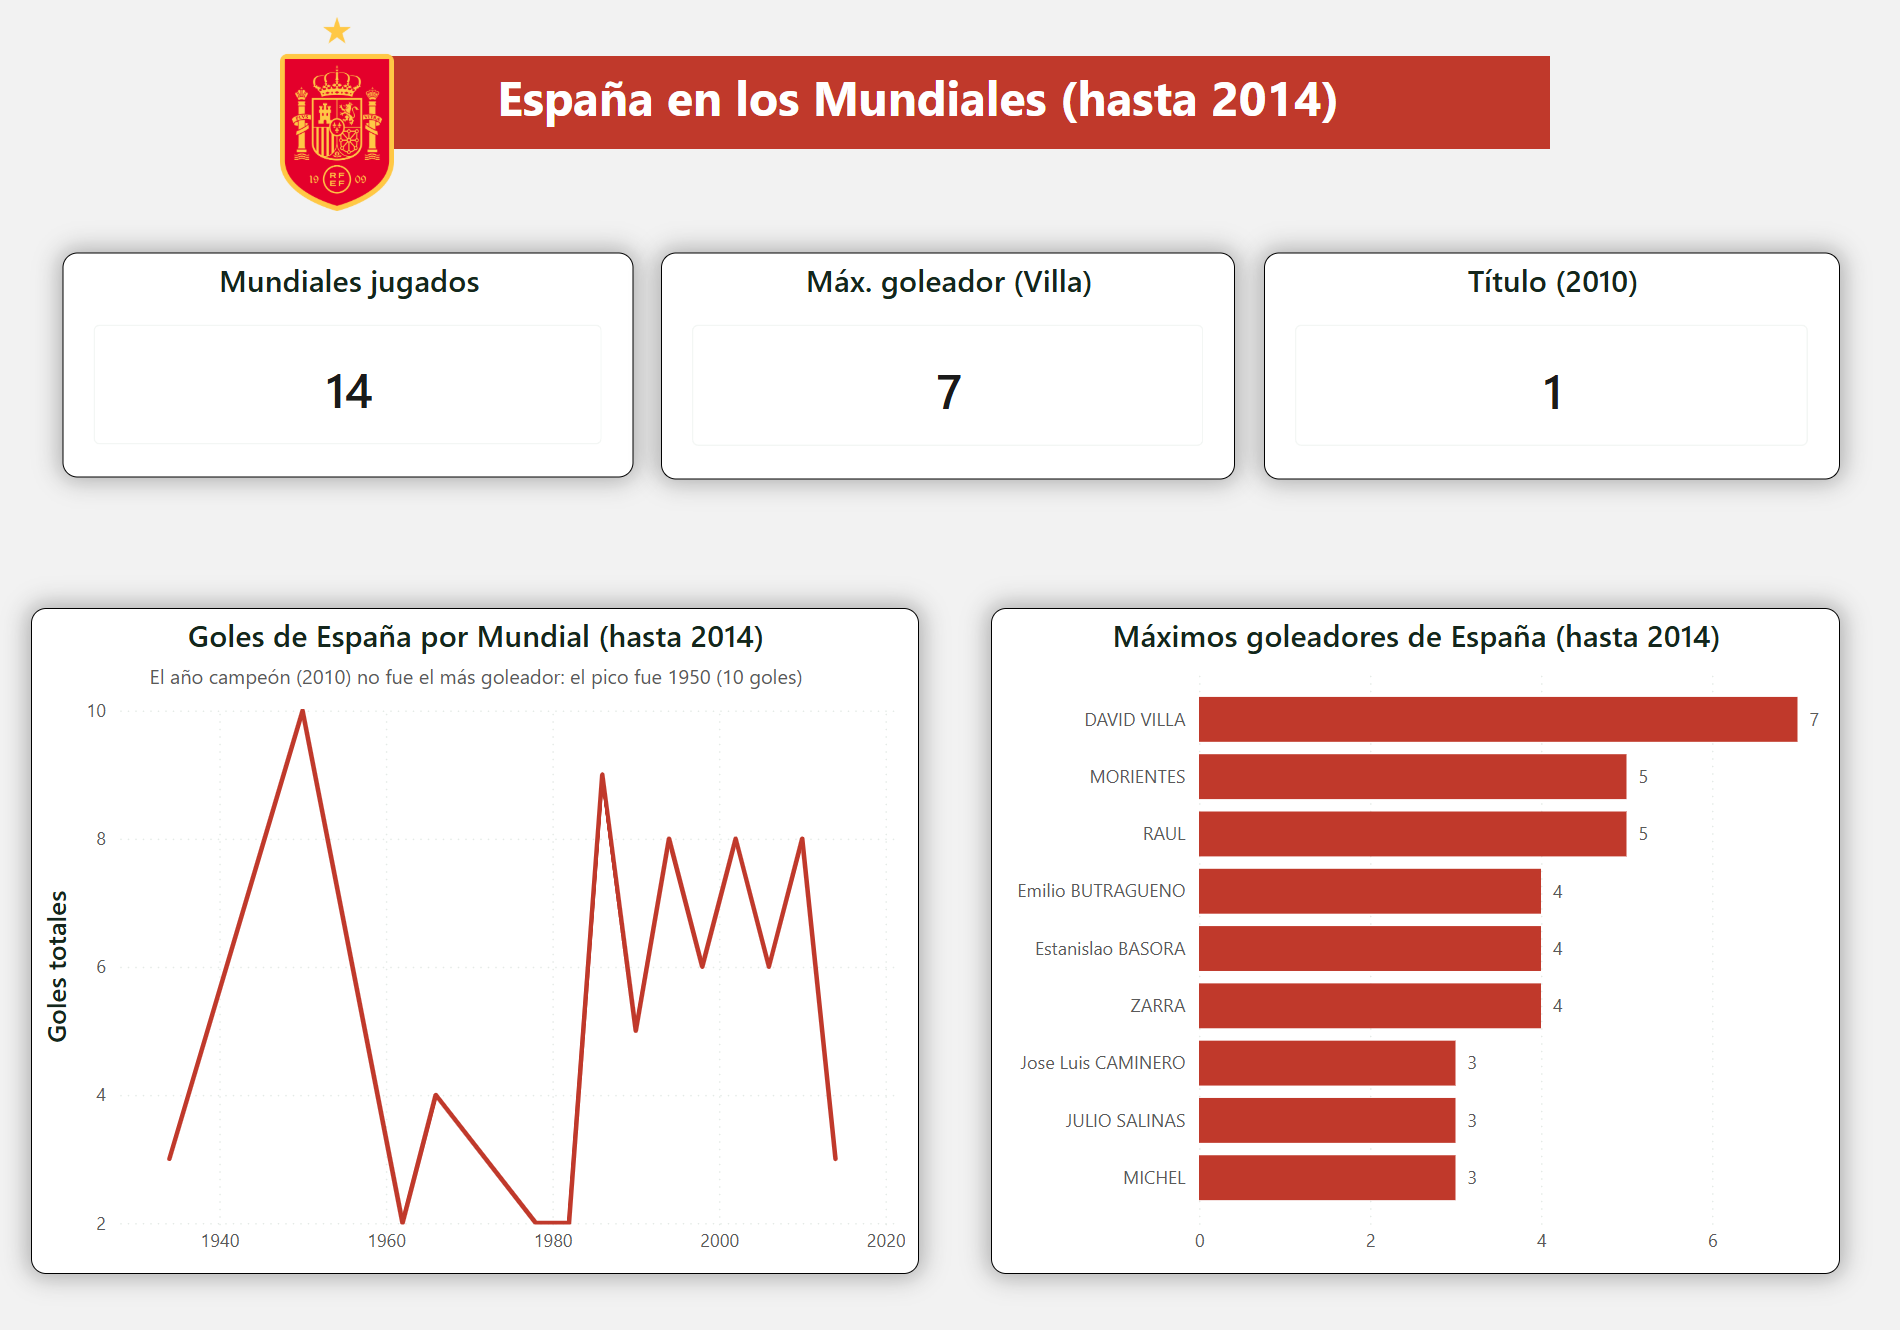

This screenshot's page, from the dashboard's own definition file:
{"tool":"powerbi","page":{"name":"España","canvas":[1280,900],"ordinal":1},"visuals":[{"type":"lineChart","title":"Goles de España por Mundial (hasta 2014)","fields":{"Category":["spain_goals.Year"],"Y":["Sum(spain_goals.goals)"]},"box":[24,408,592,444],"z":0},{"type":"clusteredBarChart","title":"Máximos goleadores de España (hasta 2014)","fields":{"Category":["spain_scorers.Player Name"],"Y":["Sum(spain_scorers.goals)"]},"box":[664,408,566,444],"z":1000},{"type":"textbox","box":[194,40,843,62],"z":2000},{"type":"cardVisual","title":"Mundiales jugados","fields":{"Data":["CountNonNull(spain_goals.Year)"]},"box":[44.8,170.8,380.8,150.4],"z":3000},{"type":"cardVisual","title":"Máx. goleador (Villa)","fields":{"Data":["Max(spain_scorers.goals)"]},"box":[444.3,170.8,383,151],"z":4000},{"type":"image","box":[140,14,176,129],"z":6000},{"type":"cardVisual","title":"Título (2010)","fields":{"Data":["CountNonNull(worldcups_clean.Year)"]},"box":[846,170.8,384,151],"z":6001}]}

Visuals, with their boxes in screenshot pixels (x1, y1, x2, y2), scaled from the page's 1280x900 canvas onto the 1900x1330 screenshot:
"Goles de España por Mundial (hasta 2014)" lineChart: 36/603/914/1259
"Máximos goleadores de España (hasta 2014)" clusteredBarChart: 986/603/1826/1259
textbox: 288/59/1539/151
"Mundiales jugados" cardVisual: 66/252/632/475
"Máx. goleador (Villa)" cardVisual: 660/252/1228/476
image: 208/21/469/211
"Título (2010)" cardVisual: 1256/252/1826/476
